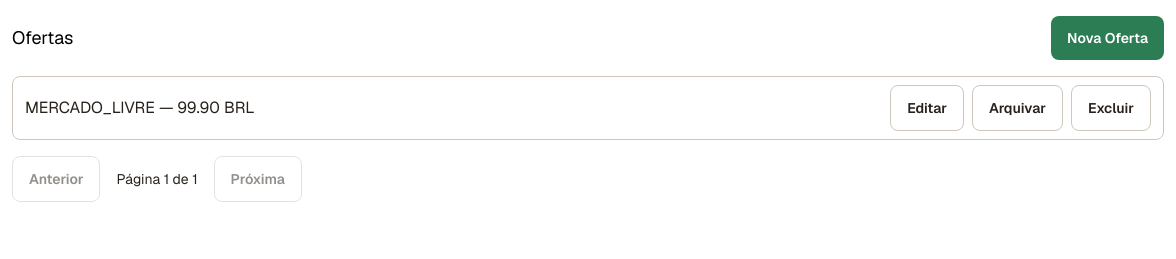
Scenario: OfferSection › arquivar com falha: mostra erro acessível, estado não muda
Click the button "Arquivar": coordinates (1018, 108) [972,85,1063,131]
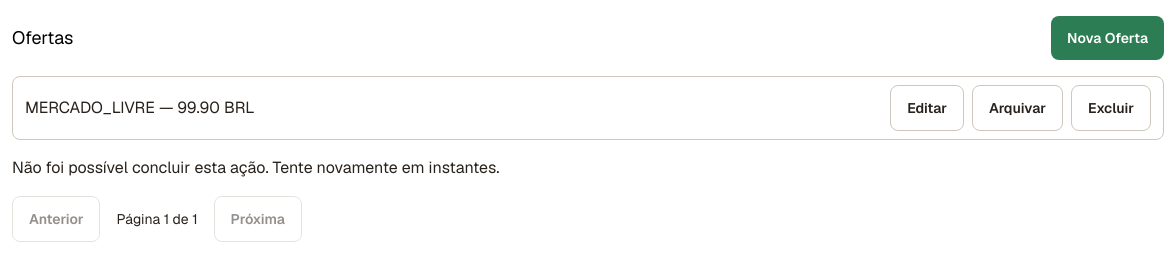
expect the text "Não foi possível concluir esta ação. Tente novamente em instantes." is shown: met, box [12,157,500,178]
